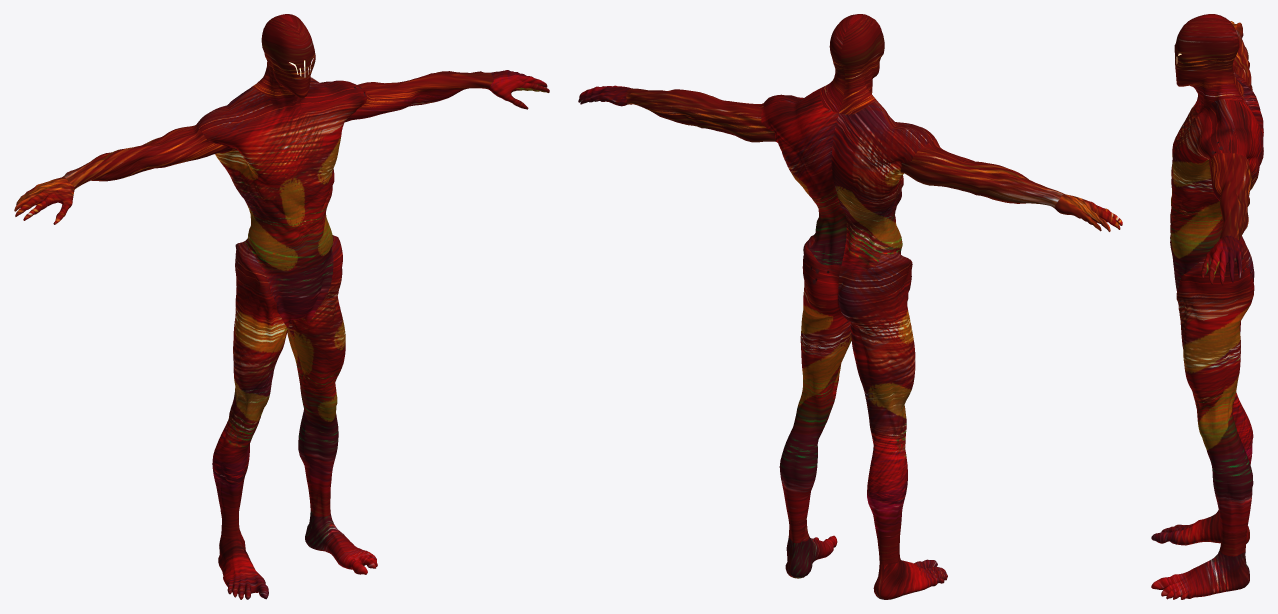
Rendered from enemy.gltf.
3 views of the same model, side by side, from view 1: azimuth 30°, elevation 25°; view 2: azimuth 150°, elevation 25°; view 3: azimuth 270°, elevation 25° (orthographic).
Parts seen in each view (by area): view 1: Ch30; view 2: Ch30; view 3: Ch30.
Part boxes in pixels (x1,y1,x2,y2): Ch30: (14,14,549,599); Ch30: (578,14,1122,599); Ch30: (1151,14,1263,599).
Size of the model in its own units: 1.78 by 1.77 by 0.3277.
2 materials, 1 textured.
